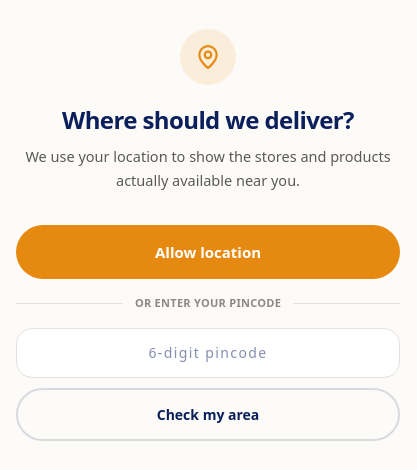
Scenario: LocationRequiredState › an invalid pincode is rejected client-side without calling setPincode
The width and height of the screenshot is (417, 470).
Type "123" into the field with test id "pincode-input" at {"x": 208, "y": 353}, box [16,328,400,378]
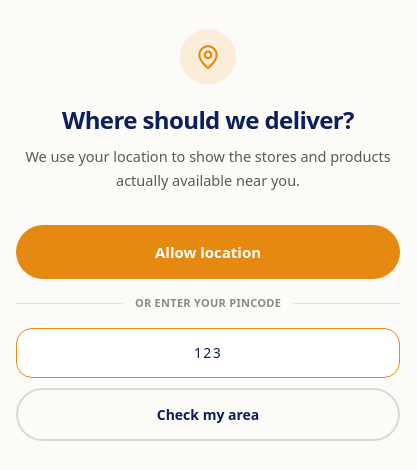
Click the button with test id "pincode-submit" at {"x": 208, "y": 414}, box [16,388,400,441]
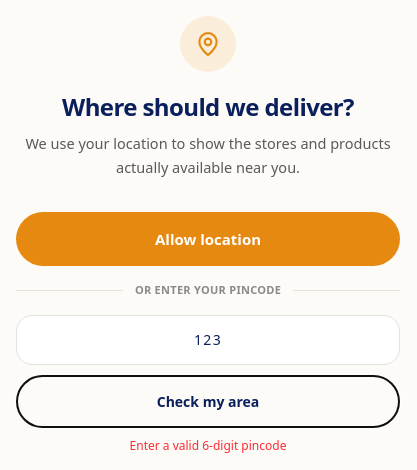
Expected: the text with test id "pincode-error" shows "6-digit", [130,437,286,454]
